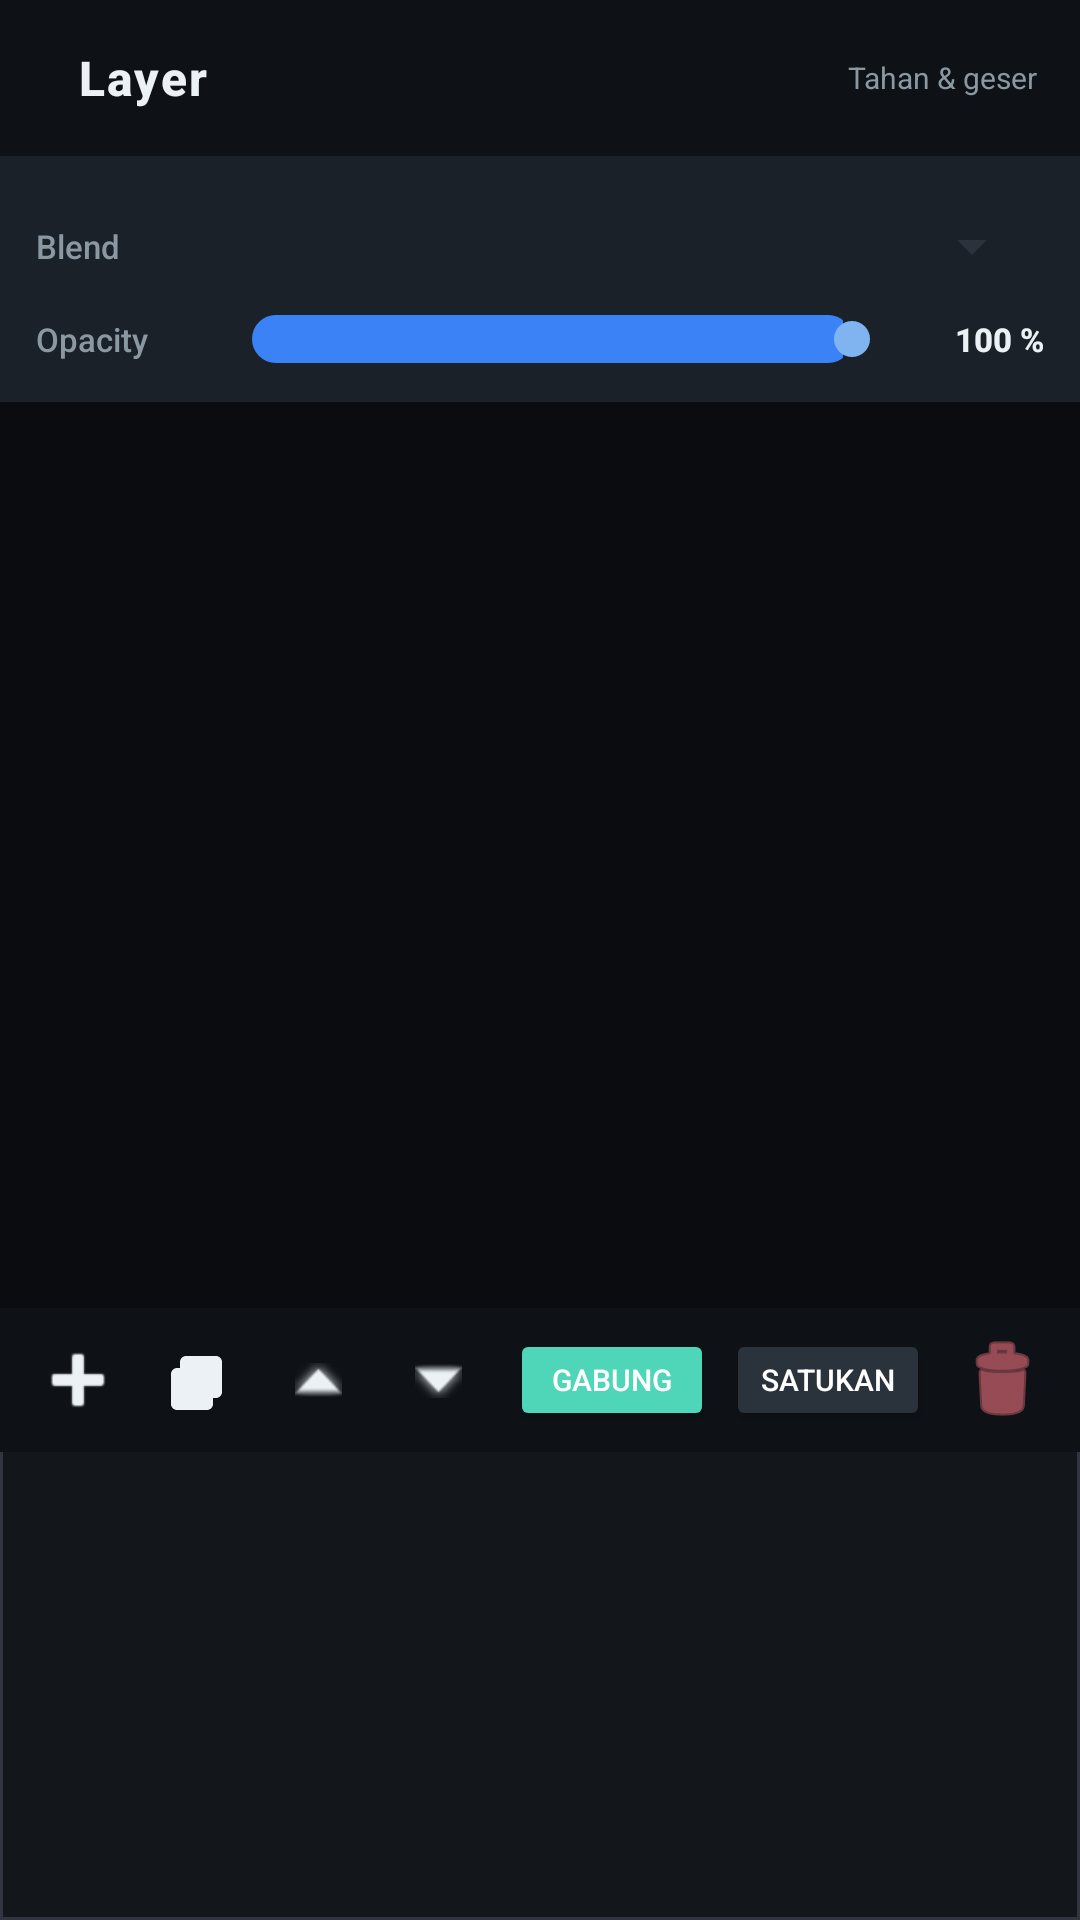

Point at icon controls on the screen. Image size 1080*1920, points as [x,y].
Add layer: [78,1380]
Delete layer: [1002,1378]
Duplicate layer: [196,1383]
Move layer down: [438,1380]
Move layer up: [318,1380]
